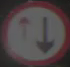Two way: (13, 7, 62, 57)
